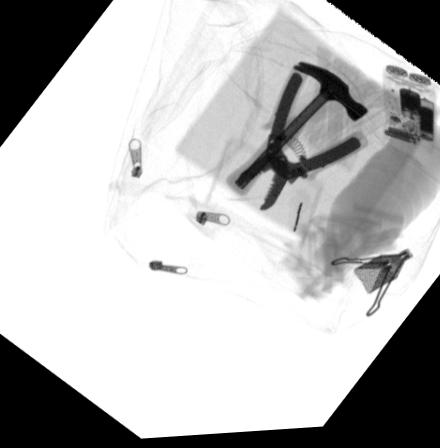Hammer: (226, 66, 367, 199)
Pliers: (236, 71, 368, 214)
